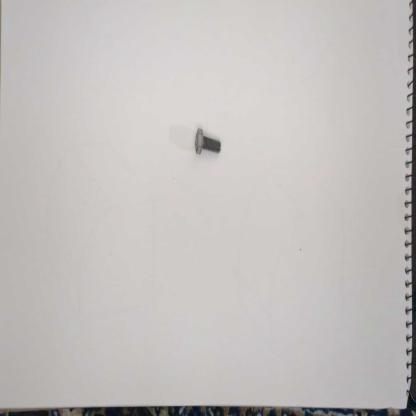Bolts: (192, 124, 227, 166)
